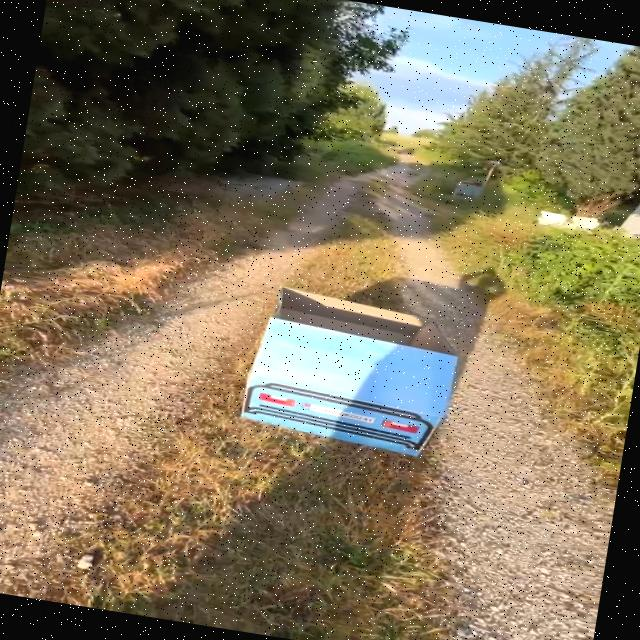blue_car: (179, 238, 506, 488)
